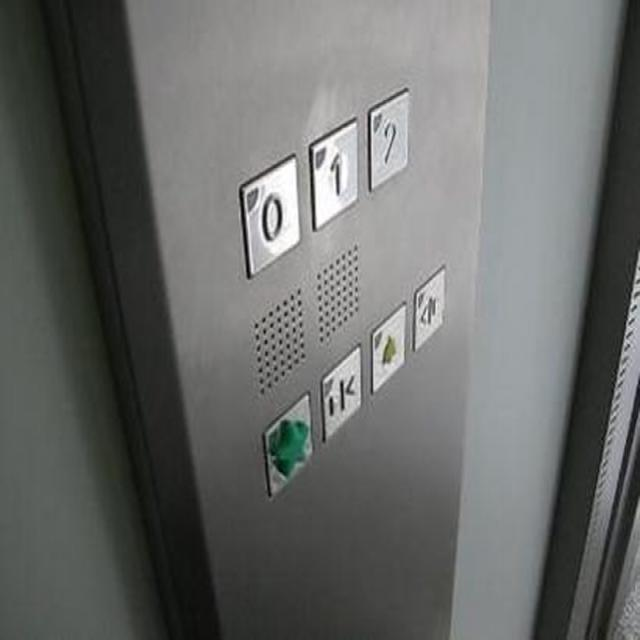0: (236, 151, 301, 277)
1: (308, 115, 358, 229)
2: (365, 81, 411, 195)
alarm: (370, 302, 404, 394)
close: (320, 343, 364, 441)
open: (413, 265, 445, 352)
unknown: (262, 392, 312, 496)
